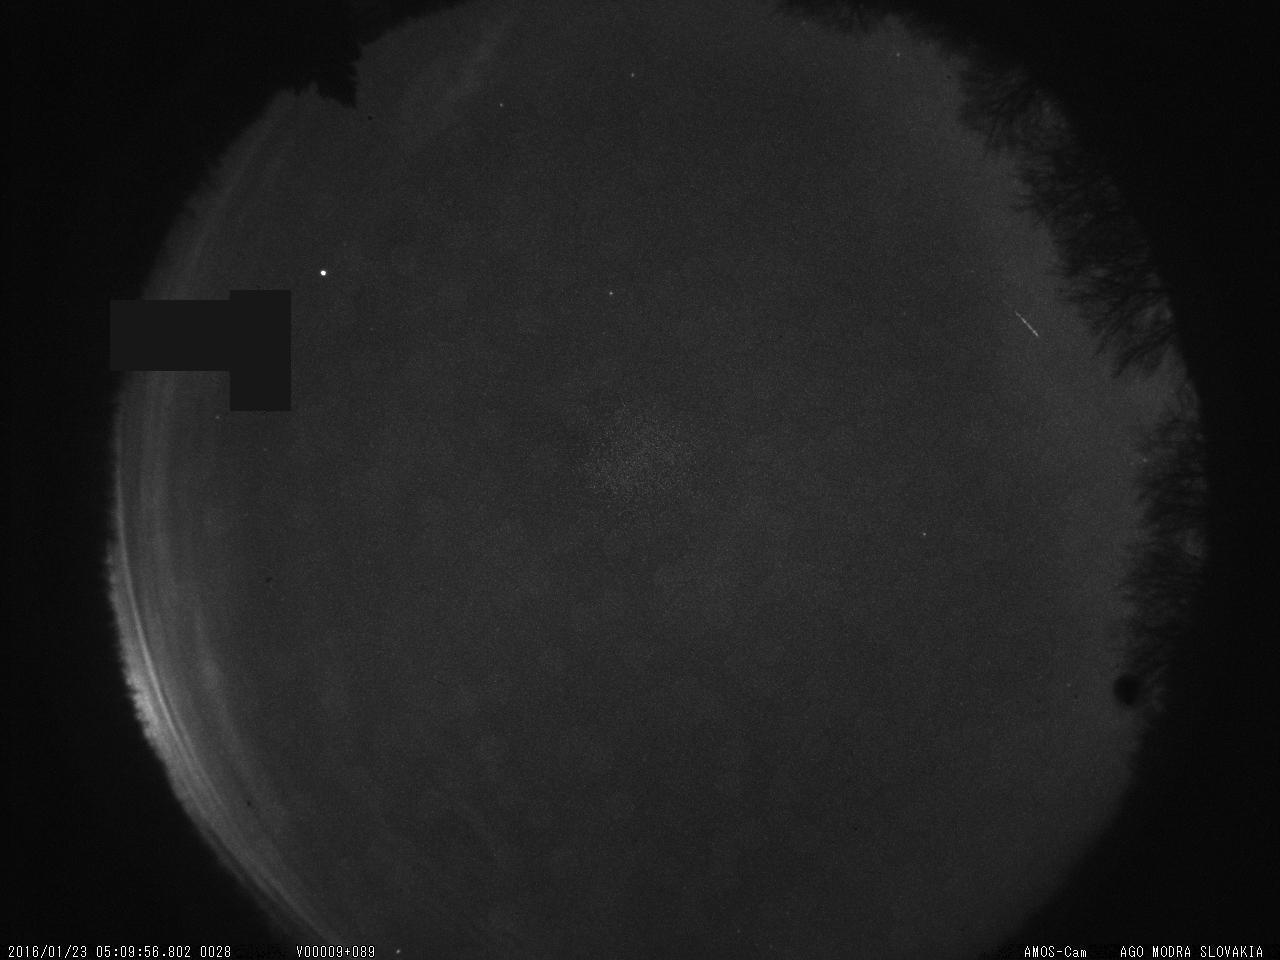meteor: (987, 287, 1046, 345)
